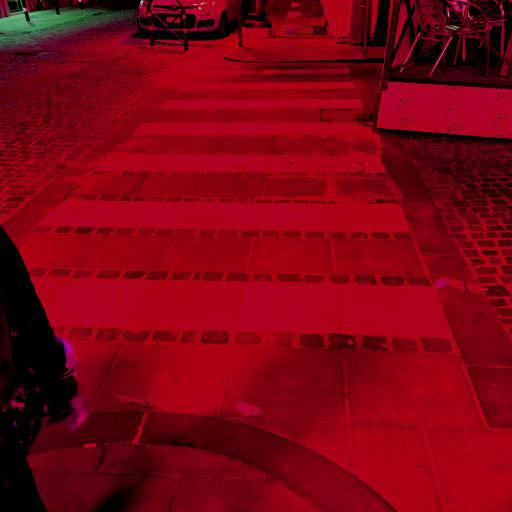crosswalk: (24, 148, 422, 248), (148, 78, 376, 113)
